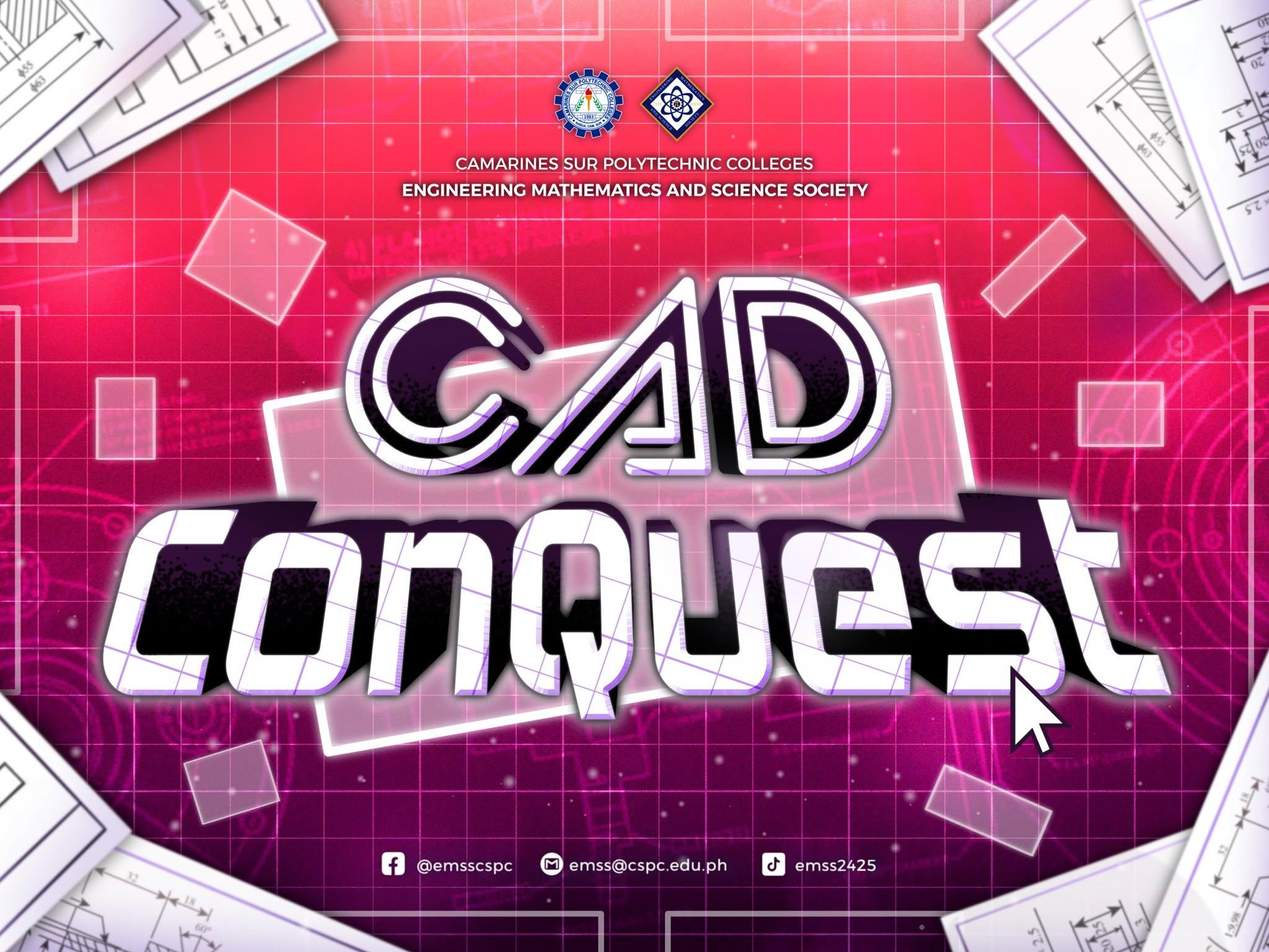embellishment: (1, 676, 440, 951), (938, 640, 1268, 951), (959, 0, 1268, 320), (0, 0, 356, 203), (175, 177, 336, 327), (973, 207, 1098, 325), (176, 733, 291, 834), (86, 363, 162, 460), (752, 845, 794, 880), (535, 847, 565, 884), (379, 849, 409, 878)
logo: (543, 63, 628, 141), (639, 64, 718, 143)
text: (85, 482, 1195, 711), (326, 256, 917, 493), (394, 148, 879, 209), (1069, 372, 1181, 449), (566, 855, 729, 874), (414, 857, 518, 878), (794, 858, 881, 874)
underlay: (253, 278, 1026, 765)
